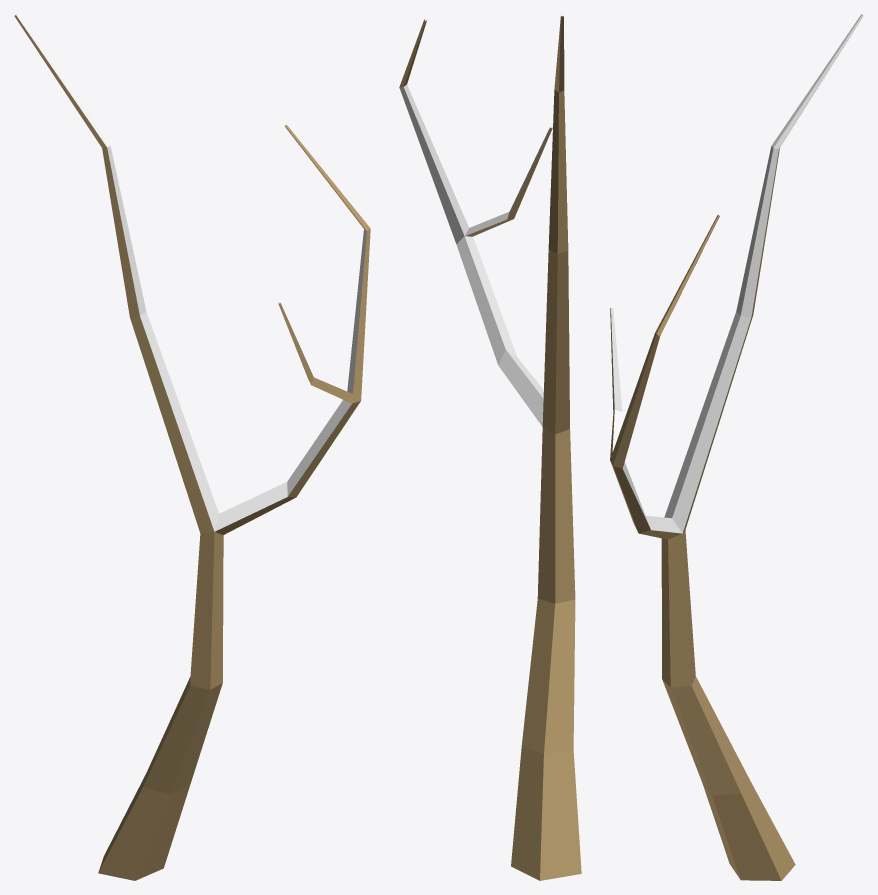
Rendered from Apple_Tree_NoLeaves_m_Snow_04.fbx.
3 views of the same model, side by side, from view 1: azimuth 30°, elevation 25°; view 2: azimuth 150°, elevation 25°; view 3: azimuth 270°, elevation 25° (orthographic). The views are drawn at different scales.
Visible parts, largest first — view 1: Apple_Tree_NoLeaves_m_Snow_04; view 2: Apple_Tree_NoLeaves_m_Snow_04; view 3: Apple_Tree_NoLeaves_m_Snow_04.
Part boxes in pixels (x1,y1,x2,y2): Apple_Tree_NoLeaves_m_Snow_04: (14,14,370,880); Apple_Tree_NoLeaves_m_Snow_04: (399,14,581,880); Apple_Tree_NoLeaves_m_Snow_04: (610,14,863,880).
Size of the model in its own units: 239 by 750 by 209.
